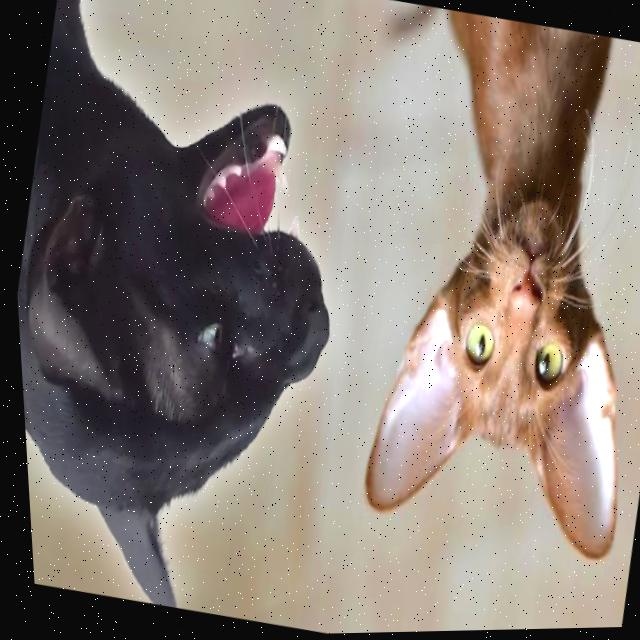Oriental: (0, 0, 407, 633), (324, 3, 640, 574)
